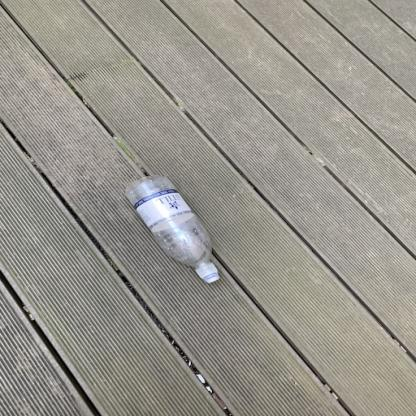trash: (116, 174, 225, 284)
